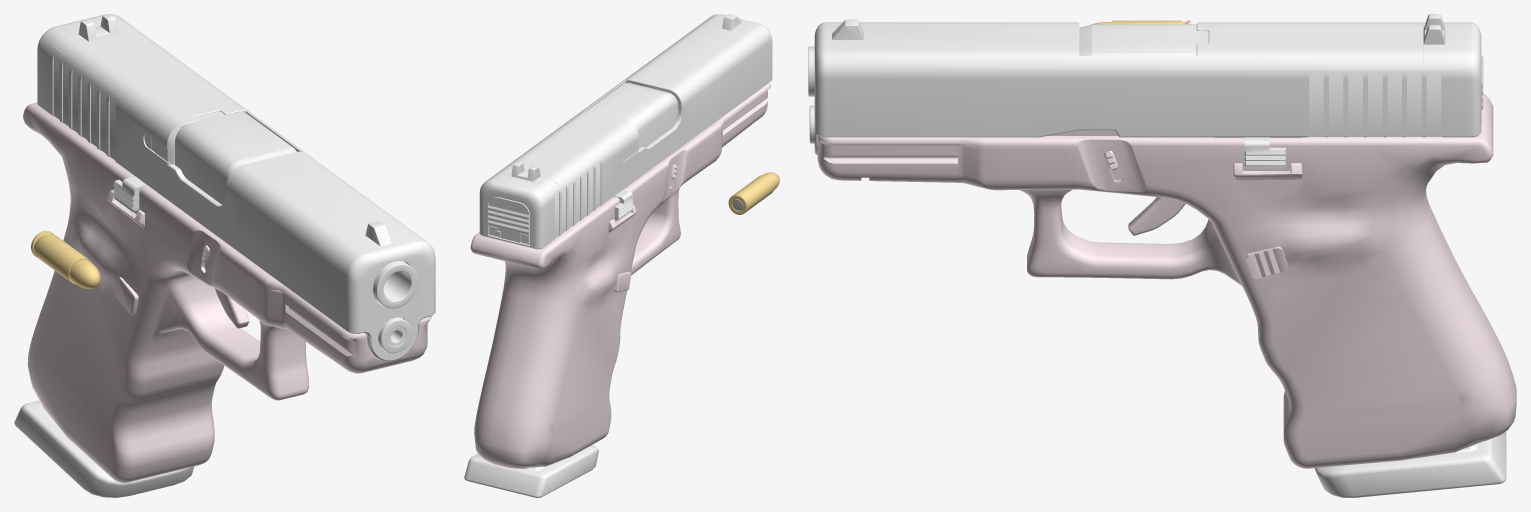
The model's file is G19_Hitansh3D.fbx.
The picture shows the model from 3 angles, left to right: view 1: azimuth 30°, elevation 25°; view 2: azimuth 150°, elevation 25°; view 3: azimuth 270°, elevation 25°; orthographic projection. The views are drawn at different scales.
Visible parts, largest first — view 1: GL_Frame, GL_Slide, GL_Barrel, GL_Magazine, Bullet_Casing, GL_SlideStop2, Bullet.017, GL_Trigger, GL_MagRelease; view 2: GL_Frame, GL_Slide, GL_Magazine, GL_Barrel, Bullet_Casing, GL_SlideStop2; view 3: GL_Frame, GL_Slide, GL_Magazine, GL_Barrel, GL_Trigger, GL_SlideStop1, GL_MagRelease.
Part boxes in pixels (left/top/right/bottom): GL_Frame: left=23, top=102, right=431, bottom=482; GL_Slide: left=37, top=14, right=435, bottom=361; GL_Barrel: left=175, top=111, right=418, bottom=308; GL_Magazine: left=14, top=400, right=194, bottom=497; Bullet_Casing: left=31, top=230, right=91, bottom=284; GL_SlideStop2: left=113, top=176, right=147, bottom=212; Bullet.017: left=69, top=259, right=100, bottom=288; GL_Trigger: left=215, top=288, right=249, bottom=328; GL_MagRelease: left=115, top=277, right=138, bottom=314; GL_Frame: left=470, top=83, right=770, bottom=468; GL_Slide: left=479, top=14, right=772, bottom=249; GL_Magazine: left=464, top=445, right=598, bottom=497; GL_Barrel: left=587, top=82, right=678, bottom=148; Bullet_Casing: left=728, top=175, right=774, bottom=214; GL_SlideStop2: left=614, top=190, right=633, bottom=220; GL_Frame: left=809, top=93, right=1516, bottom=468; GL_Slide: left=814, top=14, right=1483, bottom=154; GL_Magazine: left=1314, top=431, right=1506, bottom=497; GL_Barrel: left=808, top=24, right=1208, bottom=96; GL_Trigger: left=1128, top=197, right=1185, bottom=235; GL_SlideStop1: left=1244, top=137, right=1285, bottom=168; GL_MagRelease: left=1246, top=246, right=1287, bottom=279.
Size of the model in its own units: 7.27 by 12.53 by 17.75.
